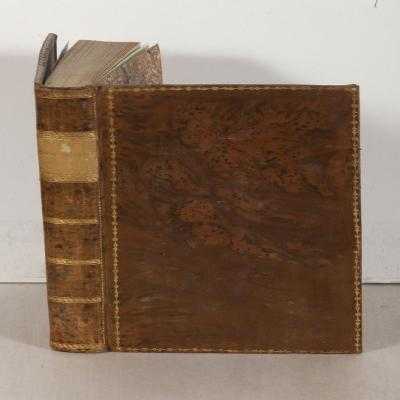rare_books: (33, 36, 365, 357)
